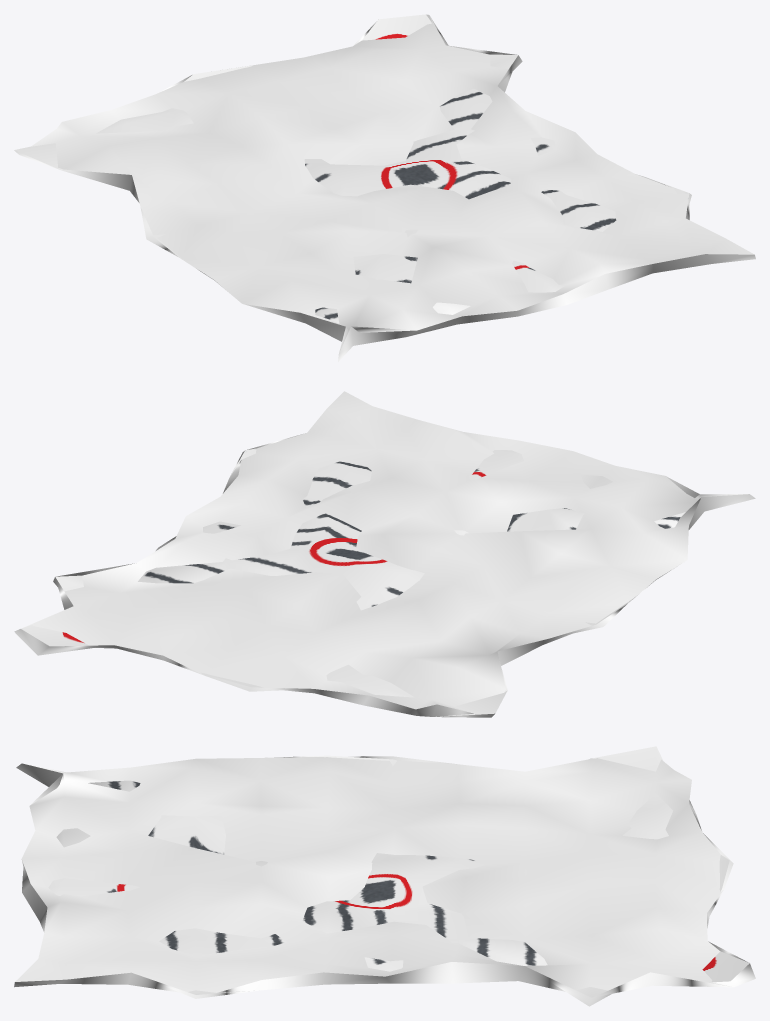
Rendered from Paper_0.fbx.
The picture shows the model from 3 angles, top to bottom: view 1: azimuth 30°, elevation 25°; view 2: azimuth 150°, elevation 25°; view 3: azimuth 270°, elevation 25°; orthographic projection. The views are drawn at different scales.
Visible parts, largest first — view 1: Paper_0; view 2: Paper_0; view 3: Paper_0.
Boxes of the visible parts, x1,y1,x2,y2 form: Paper_0: (14,14,755,361); Paper_0: (14,391,755,717); Paper_0: (14,746,755,1006).
Bounding box in the file's own units: 388 × 24.89 × 479.
